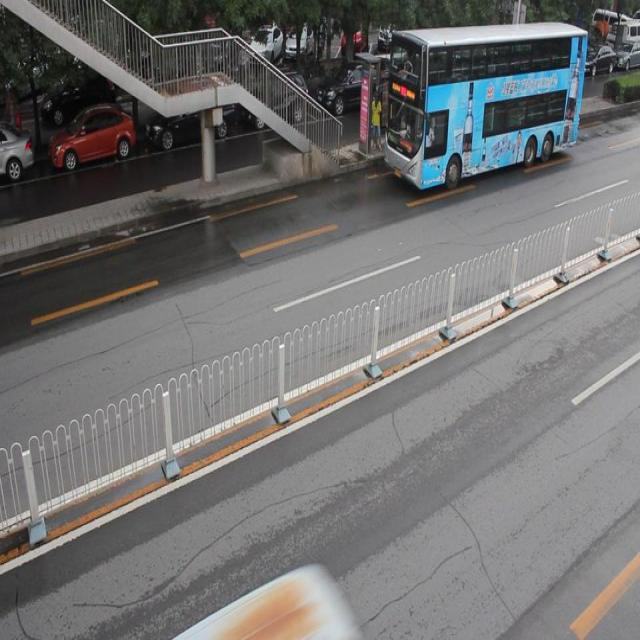car: (49, 105, 136, 172), (144, 92, 236, 150), (314, 62, 389, 122), (243, 72, 308, 130), (507, 62, 552, 115), (1, 126, 34, 181)
van: (383, 22, 586, 191)
